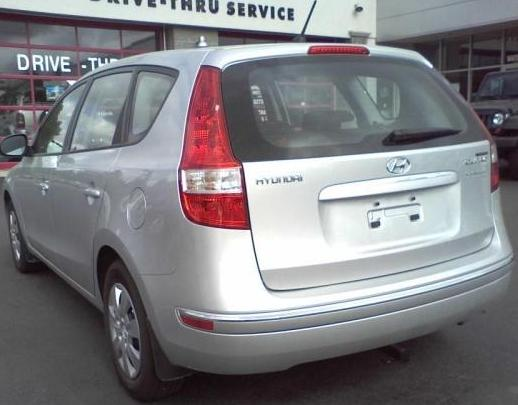back_view: (182, 44, 515, 374)
backlight: (177, 62, 255, 237)
side_glass: (20, 68, 180, 157)
